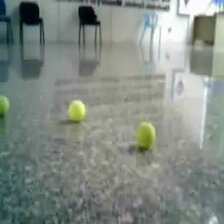tennis: (135, 121, 155, 147), (66, 99, 86, 120), (1, 95, 11, 117)
